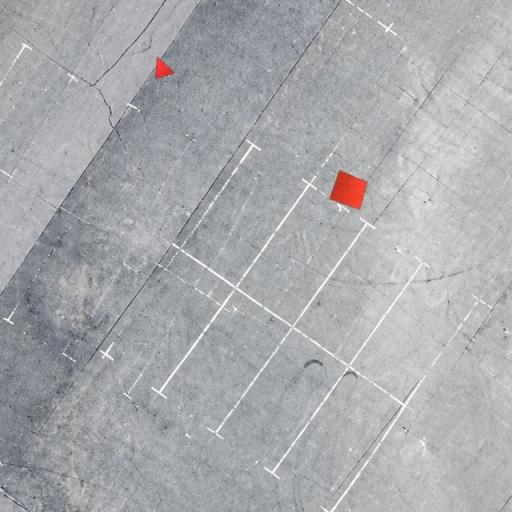RED_SQUARE: (329, 170, 368, 210)
